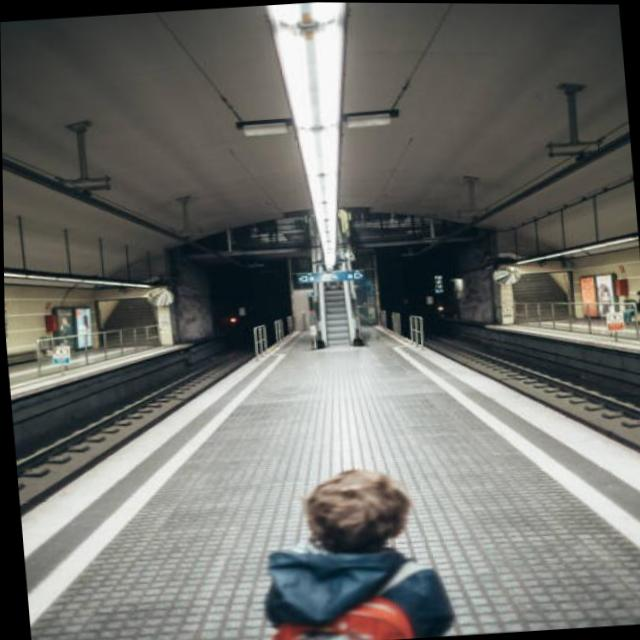no helmet: (279, 448, 416, 568)
